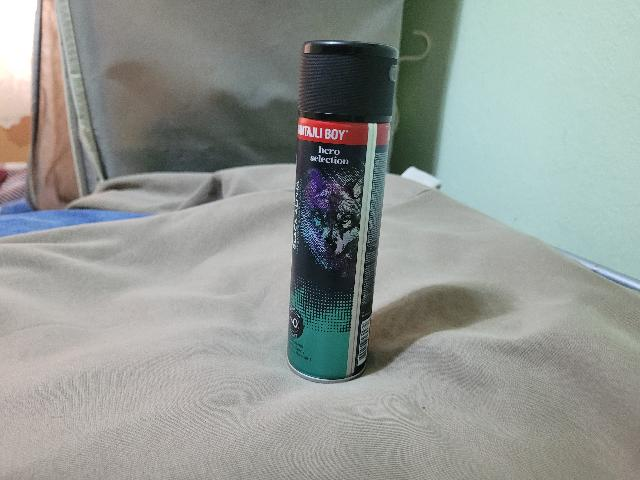Metal: (283, 119, 398, 391)
Plastik: (286, 37, 406, 111)
